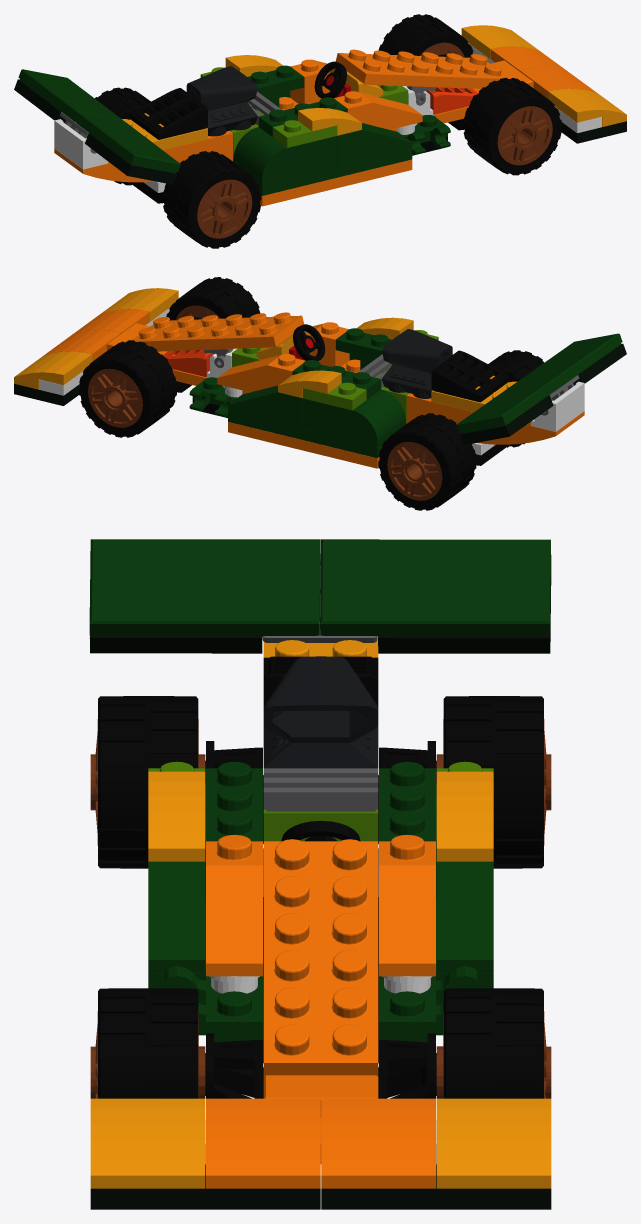
File: open-wheel-race-car.obj
3 renders of one model, top to bottom at view 1: azimuth 30°, elevation 25°; view 2: azimuth 150°, elevation 25°; view 3: azimuth 270°, elevation 25°, orthographic. The views are drawn at different scales.
Visible parts, largest first — view 1: Part.22, Part.12, Part.18, Part.57, Part.38, Part.45, Part.10, Part.15, Part.13, Part.46, Part.55, Part.54 (+32 smaller); view 2: Part.22, Part.13, Part.17, Part.68, Part.38, Part.46, Part.16, Part.11, Part.12, Part.45, Part.66, Part.65 (+32 smaller); view 3: Part.22, Part.45, Part.46, Part.17, Part.18, Part.38, Part.12, Part.13, Part.1, Part.2, Part.3, Part.4 (+25 smaller).
Part boxes in pixels (x1,y1,x2,y2): Part.22: (335,49,510,88); Part.12: (463,77,561,175); Part.18: (162,151,261,248); Part.57: (233,127,336,185); Part.38: (186,66,257,136); Part.45: (75,112,180,173); Part.10: (497,106,552,165); Part.15: (197,179,252,238); Part.13: (378,14,473,57); Part.46: (18,69,123,122); Part.55: (337,123,412,166); Part.54: (334,91,422,129); Part.22: (132,312,304,351); Part.13: (78,340,177,437); Part.17: (378,413,476,510); Part.68: (303,389,405,447); Part.38: (381,329,452,398); Part.46: (457,375,563,433); Part.16: (387,442,442,500); Part.11: (88,369,142,427); Part.12: (166,277,260,320); Part.45: (516,333,622,384); Part.66: (228,385,302,429); Part.65: (217,354,305,392); Part.22: (263,839,378,1076); Part.45: (89,539,320,635); Part.46: (320,539,550,635); Part.17: (443,696,543,868); Part.18: (98,696,198,868); Part.38: (263,656,378,768); Part.12: (98,988,198,1098); Part.13: (443,988,543,1098); Part.1: (90,1098,205,1188); Part.2: (436,1098,551,1188); Part.3: (321,1098,435,1188); Part.4: (206,1098,320,1188).
Size of the model in its own units: 160 by 36 by 64.11.
